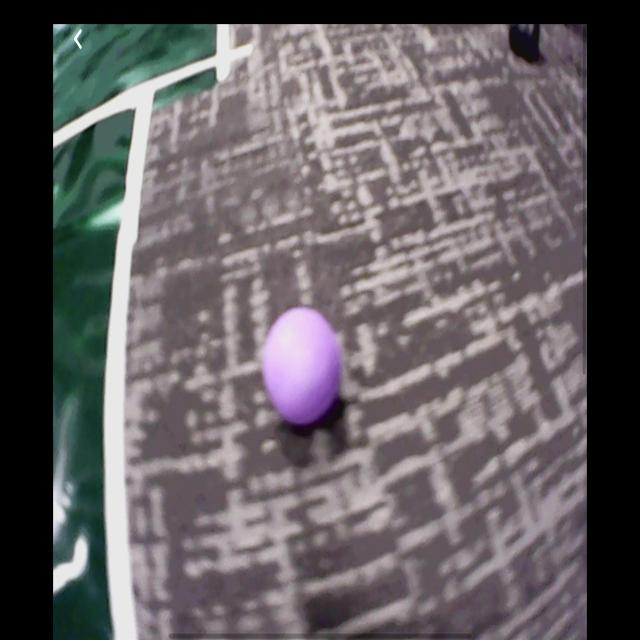ball: (263, 309, 342, 425)
